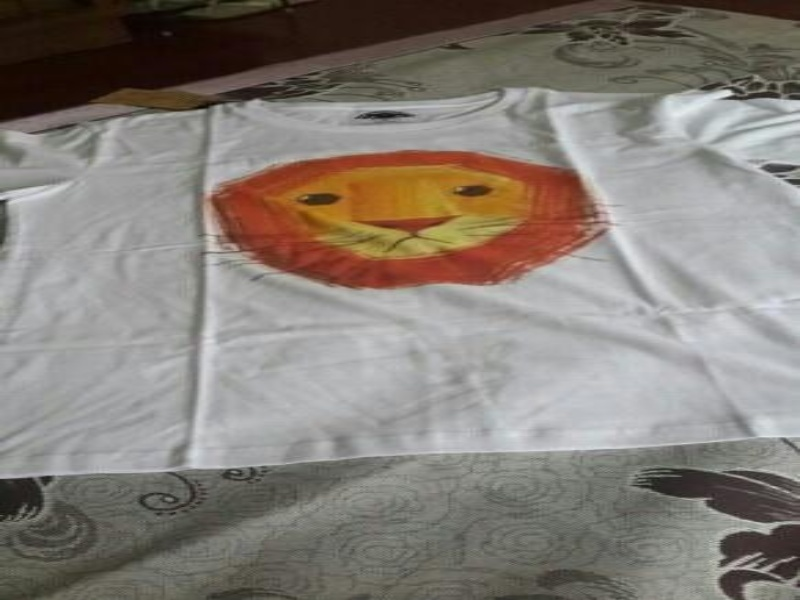short_sleeved_shirt: (0, 85, 797, 483)
